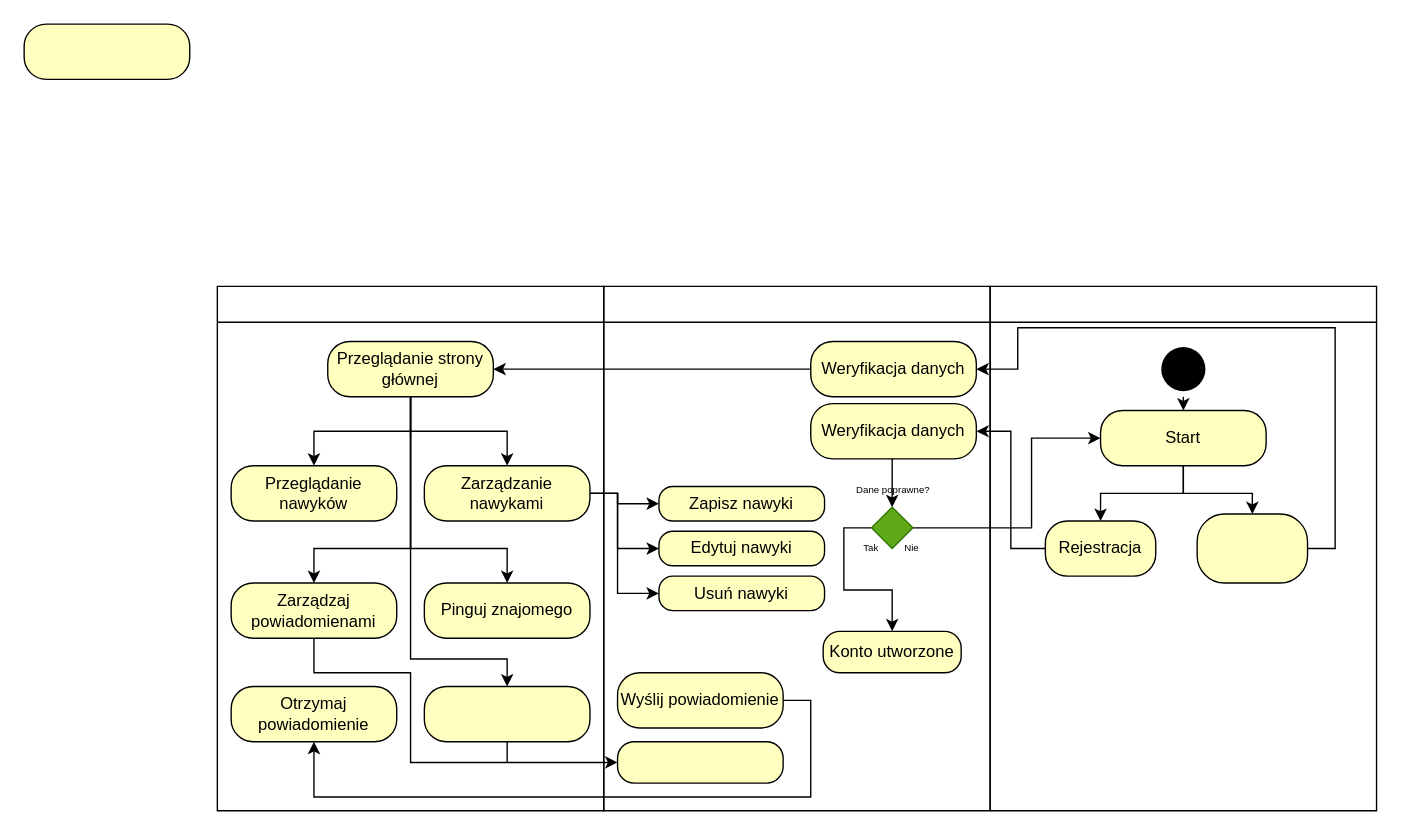
This 1401x835 diagram has some shape labels left out. Each missing label, with the box of its shape:
Activity: (23, 23, 190, 79)
Logowanie: (1196, 513, 1308, 583)
System: (602, 285, 990, 811)
Użytkownik niezalogowany: (989, 285, 1377, 811)
Użytkownik zalogowany: (216, 285, 604, 811)
Zapisz ustawienia: (616, 740, 783, 783)
Zarządzaj aplikacją: (423, 685, 590, 742)
